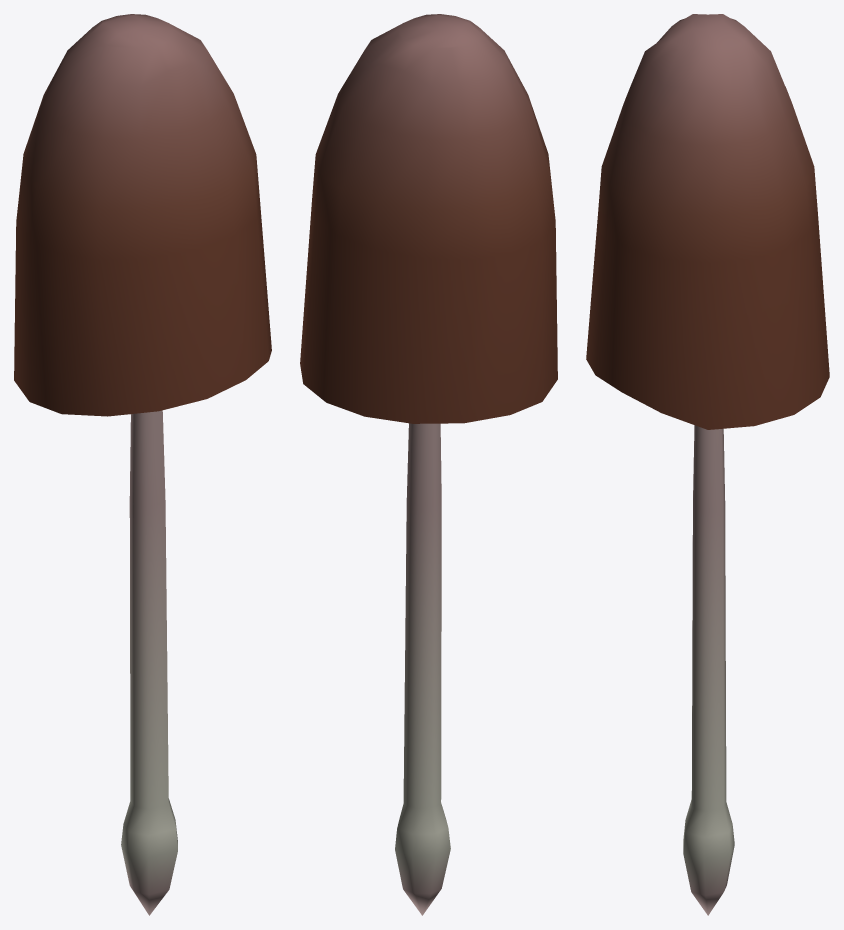
Rendered from plants-mushrooms-cone-mushroom_v3.glb.
3 renders of one model, left to right at view 1: azimuth 30°, elevation 25°; view 2: azimuth 150°, elevation 25°; view 3: azimuth 270°, elevation 25°, orthographic.
Visible parts, largest first — view 1: Cone Mushroom_v3; view 2: Cone Mushroom_v3; view 3: Cone Mushroom_v3.
Part boxes in pixels (bbox=[...]): Cone Mushroom_v3: bbox=[14, 14, 271, 915]; Cone Mushroom_v3: bbox=[300, 14, 557, 915]; Cone Mushroom_v3: bbox=[586, 14, 829, 915].
Size of the model in its own units: 0.0317 by 0.12 by 0.03.
